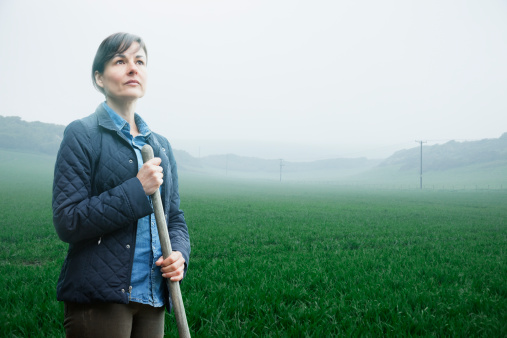em pe: (48, 8, 193, 338)
